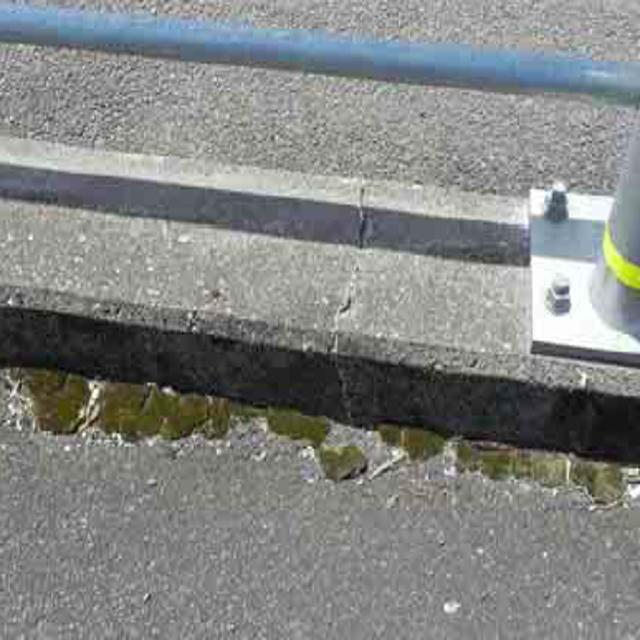crack: (310, 170, 376, 443)
